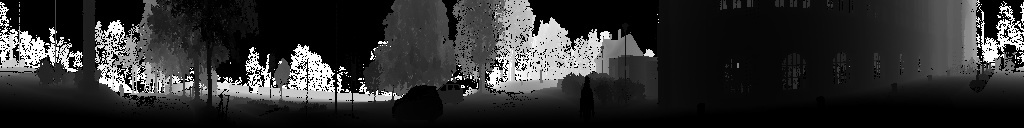car: (391, 84, 444, 124), (429, 81, 464, 105)
person: (579, 75, 595, 128), (519, 76, 525, 91), (119, 85, 123, 99)
